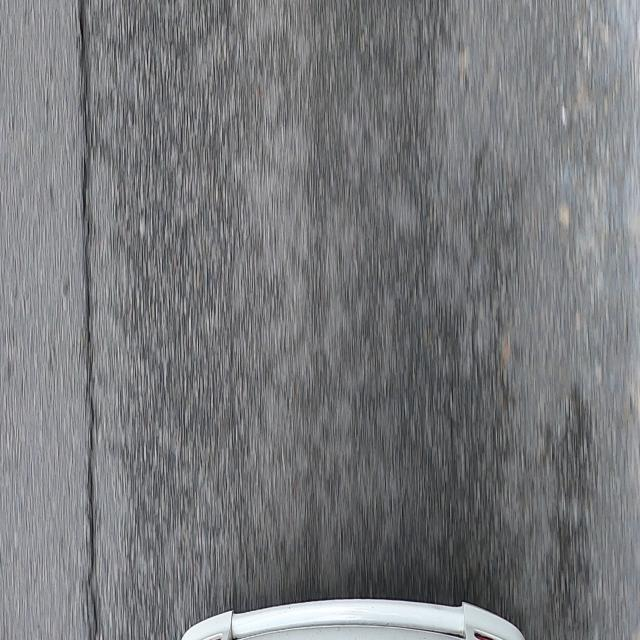Retak-Memanjang: (77, 2, 101, 640)
